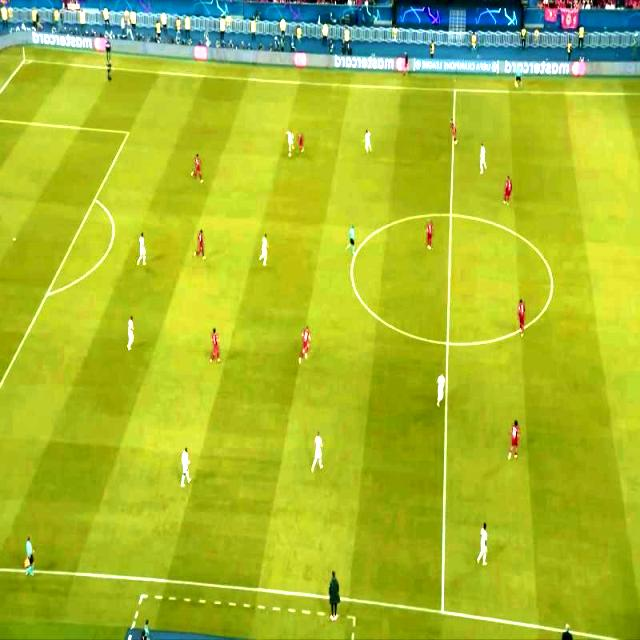bigarea_top_inner: (123, 128, 135, 140)
bottom_arc_area_intersection: (38, 282, 56, 304)
corner: (19, 54, 30, 66)
halfcircle_bottom: (441, 338, 455, 352)
halfcircle_top: (444, 207, 458, 221)
midline_bottom_intersection: (436, 604, 450, 620)
midline_top_intersection: (450, 85, 460, 97)
top_arc_area_intersection: (88, 193, 102, 207)
